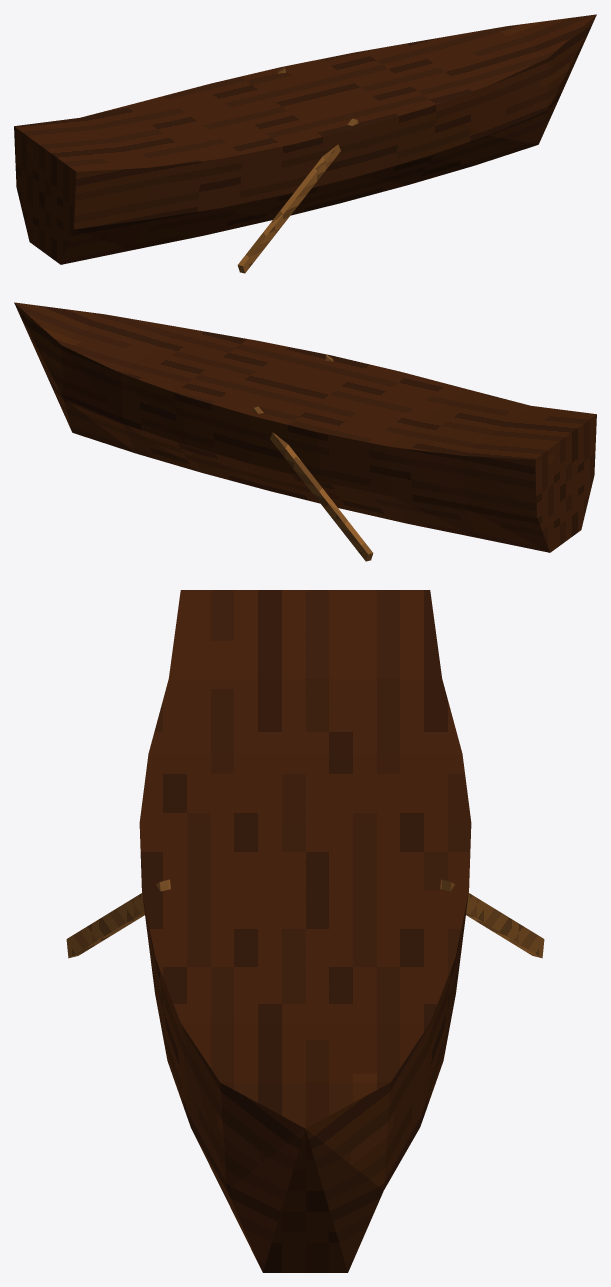
The model's file is bote_remos.glb.
3 renders of one model, top to bottom at view 1: azimuth 30°, elevation 25°; view 2: azimuth 150°, elevation 25°; view 3: azimuth 270°, elevation 25°, orthographic. The views are drawn at different scales.
Parts seen in each view (by area): view 1: casco, remos; view 2: casco, remos; view 3: casco, remos.
Part boxes in pixels (x1,y1,x2,y2): casco: (14,14,596,264); remos: (237,66,358,273); casco: (14,302,596,552); remos: (252,354,373,561); casco: (139,590,471,1272); remos: (66,879,544,958).
Bounding box in the file's own units: 4 × 0.8 × 1.5.
1 material, 1 textured.
